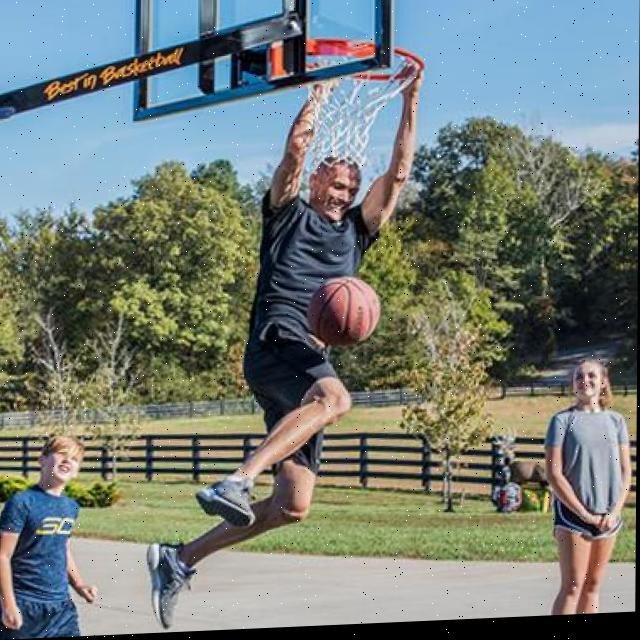Basketball: (308, 275, 381, 347)
hoop: (304, 32, 426, 172)
